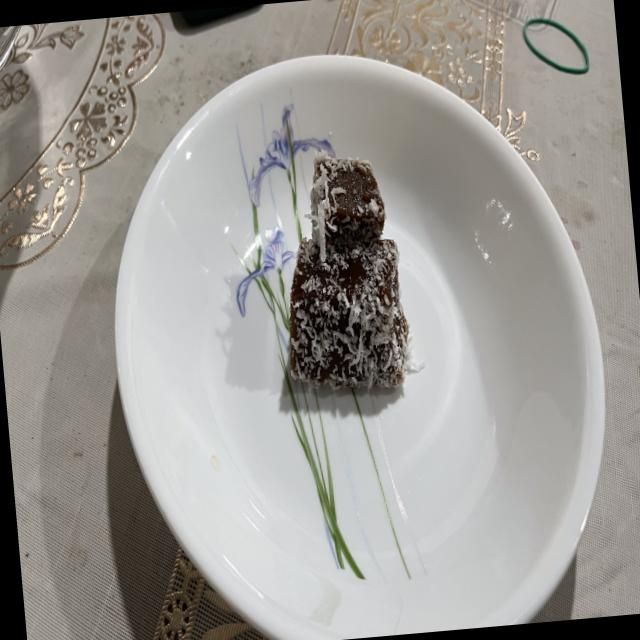kaswi: (288, 240, 409, 386), (308, 158, 385, 246)
